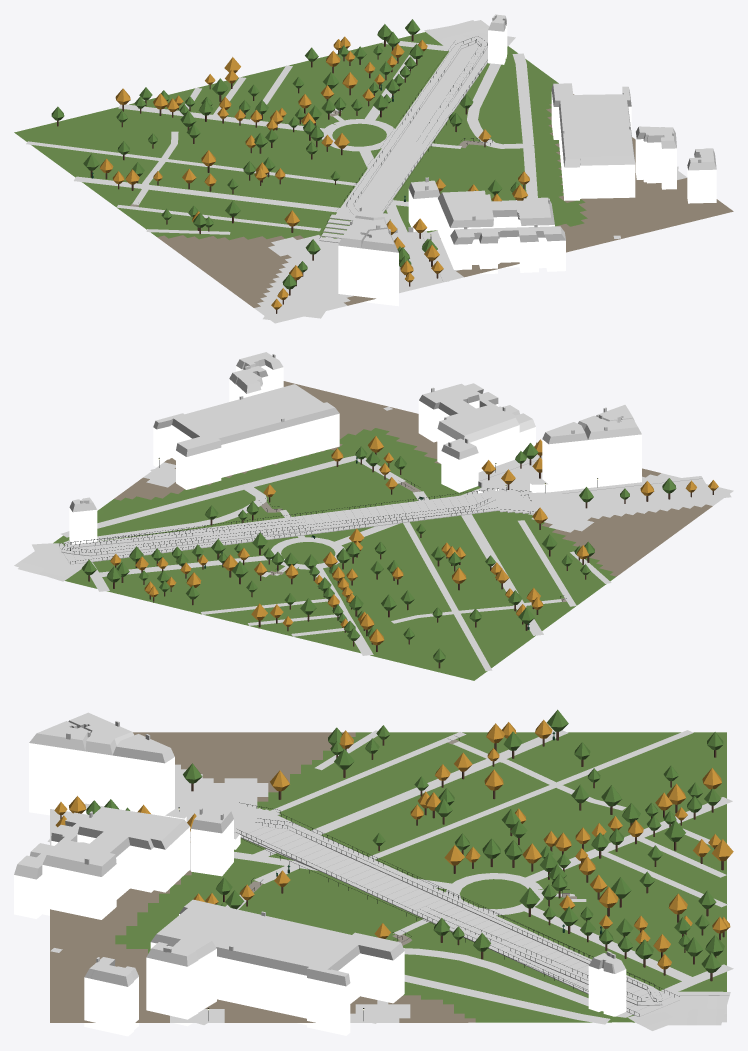
Rendered from zone_A4.glb.
3 views of the same model, one above another, from view 1: azimuth 30°, elevation 25°; view 2: azimuth 150°, elevation 25°; view 3: azimuth 270°, elevation 25° (orthographic). The views are drawn at different scales.
Visible parts, largest first — view 1: zone_A4_terrain, zone_A4_batiments, zone_A4_sol_NOCOL, zone_A4_decor_NOCOL, zone_A4_ponts_NOCOL; view 2: zone_A4_terrain, zone_A4_batiments, zone_A4_sol_NOCOL, zone_A4_decor_NOCOL, zone_A4_ponts_NOCOL; view 3: zone_A4_terrain, zone_A4_batiments, zone_A4_decor_NOCOL, zone_A4_sol_NOCOL, zone_A4_ponts_NOCOL.
Boxes of the visible parts, bbox=[...] form: zone_A4_terrain: bbox=[14, 20, 733, 323]; zone_A4_batiments: bbox=[338, 14, 716, 306]; zone_A4_sol_NOCOL: bbox=[26, 20, 678, 320]; zone_A4_decor_NOCOL: bbox=[51, 19, 529, 313]; zone_A4_ponts_NOCOL: bbox=[319, 36, 487, 243]; zone_A4_terrain: bbox=[18, 381, 733, 680]; zone_A4_batiments: bbox=[69, 352, 641, 544]; zone_A4_sol_NOCOL: bbox=[14, 406, 731, 670]; zone_A4_decor_NOCOL: bbox=[81, 436, 718, 668]; zone_A4_ponts_NOCOL: bbox=[59, 488, 545, 564]; zone_A4_terrain: bbox=[50, 732, 726, 1022]; zone_A4_batiments: bbox=[14, 712, 626, 1036]; zone_A4_decor_NOCOL: bbox=[54, 709, 733, 1020]; zone_A4_sol_NOCOL: bbox=[47, 730, 733, 1030]; zone_A4_ponts_NOCOL: bbox=[224, 802, 679, 1016].
Size of what is drawn, in the model's own units: 197 by 25.03 by 198.
